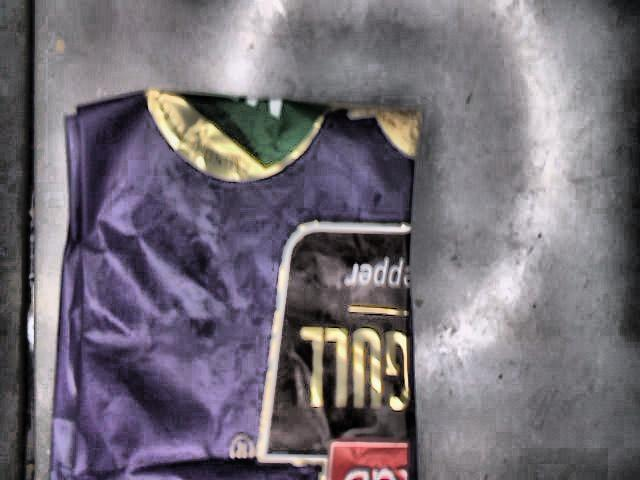Plastic: (47, 87, 423, 480)
